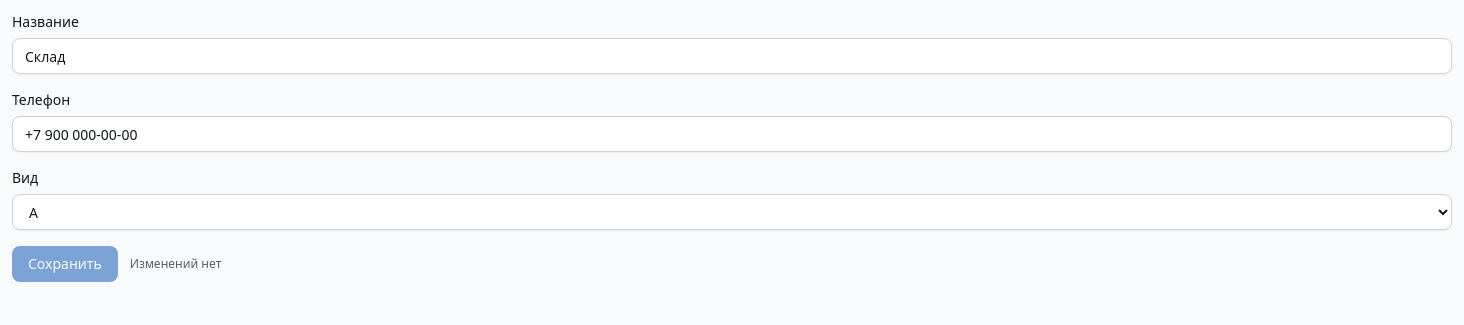
форма правки (CLAUDE.md п. 5) › клиентская проверка схемой PATCH не пускает пустое название до запроса
Step 1. Clear the field labelled "Название" → (732, 56), box [12,38,1452,74]
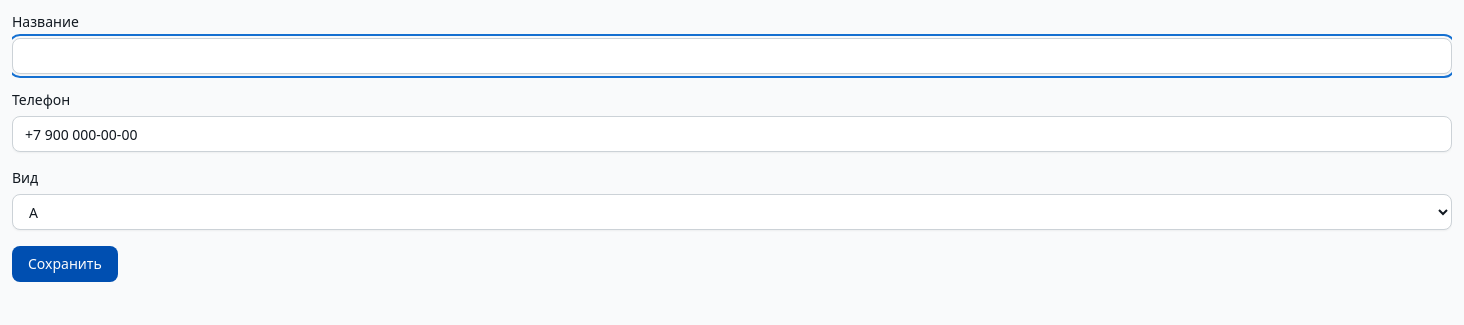
Step 2. Click the button "Сохранить" → (65, 264), box [12,246,118,282]
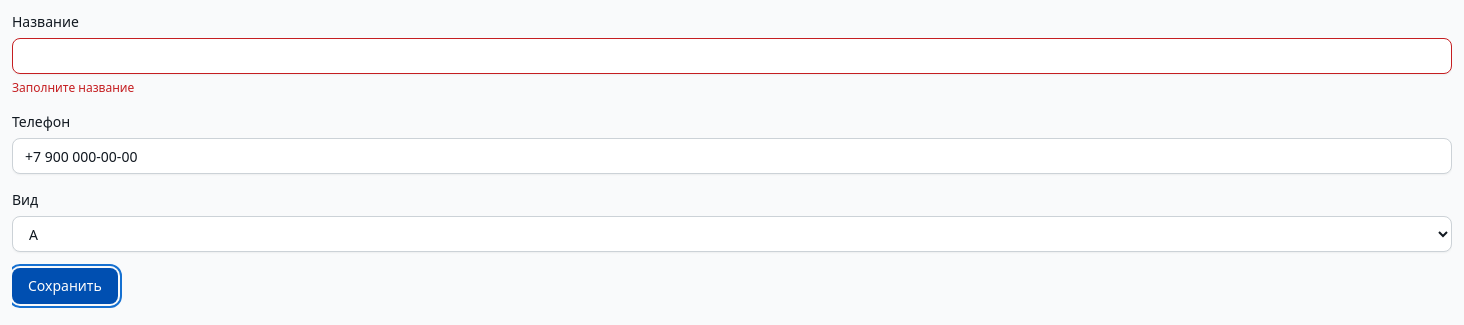
Result: the text "Заполните название" is shown at [12,79,134,96]
